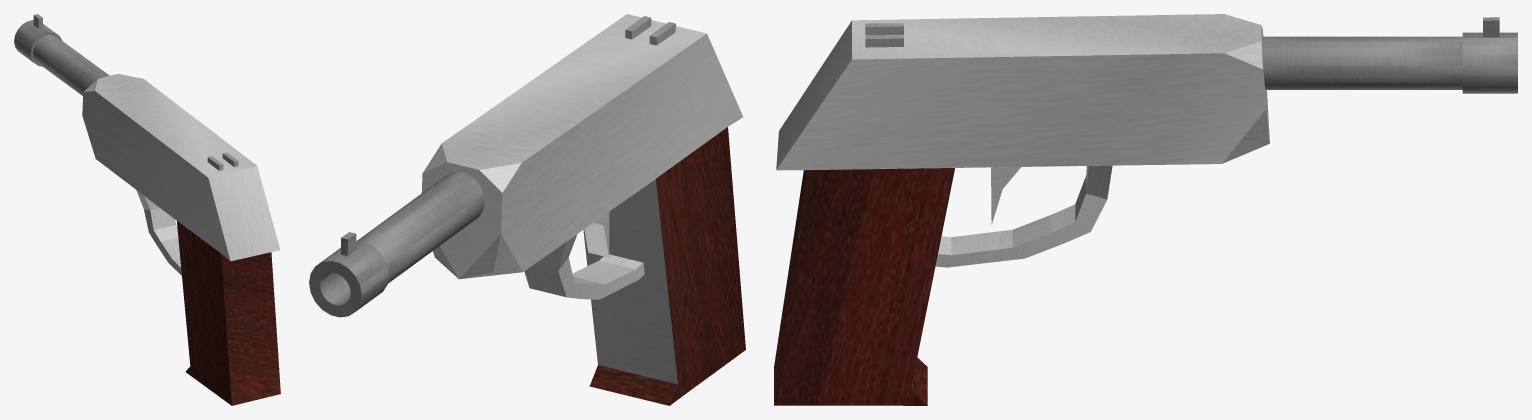
Rendered from Gun.FBX.
The picture shows the model from 3 angles, left to right: view 1: azimuth 30°, elevation 25°; view 2: azimuth 150°, elevation 25°; view 3: azimuth 270°, elevation 25°; orthographic projection. The views are drawn at different scales.
Visible parts, largest first — view 1: Box001; view 2: Box001; view 3: Box001.
Boxes of the visible parts, x1=… form: Box001: x1=14, y1=14, x2=280, y2=405; Box001: x1=309, y1=14, x2=745, y2=405; Box001: x1=774, y1=14, x2=1517, y2=405.
Bounding box in the file's own units: 0.3609 × 1.57 × 2.88.
1 material, 1 textured.
